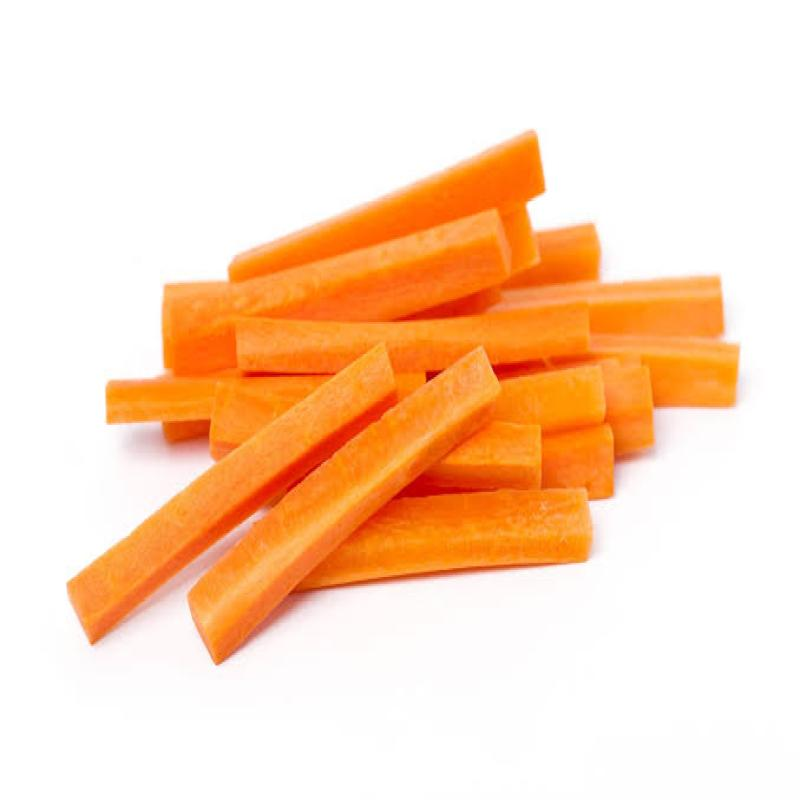vegetable peels: (188, 343, 502, 665), (67, 343, 400, 643), (163, 206, 512, 376), (228, 129, 545, 282), (292, 489, 593, 591), (236, 301, 589, 376), (406, 419, 542, 487), (106, 373, 221, 422)
